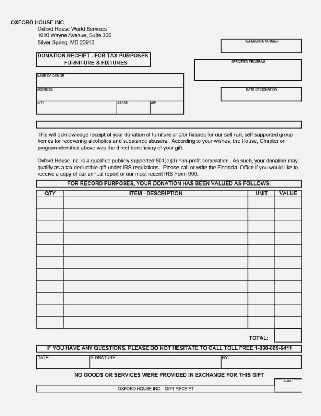textbox: (60, 195, 251, 212), (62, 205, 253, 222), (60, 218, 251, 235), (60, 230, 251, 247), (60, 242, 251, 259), (60, 254, 251, 271), (60, 266, 251, 283), (60, 278, 251, 295), (60, 290, 251, 307), (60, 314, 251, 331), (35, 68, 186, 89), (60, 302, 250, 318), (192, 57, 305, 83), (32, 85, 186, 103), (88, 352, 225, 371), (219, 352, 304, 371), (218, 37, 306, 55), (34, 99, 118, 117), (220, 85, 304, 102), (35, 353, 92, 371), (114, 97, 153, 117), (148, 97, 186, 117), (245, 313, 278, 331), (272, 217, 305, 235), (272, 301, 305, 319), (246, 194, 278, 212), (246, 206, 278, 224), (246, 218, 278, 236), (246, 229, 278, 247), (246, 278, 278, 296), (246, 289, 278, 307), (272, 194, 304, 212), (272, 241, 304, 259), (272, 253, 304, 271), (273, 289, 305, 307), (246, 266, 279, 283), (272, 266, 305, 283), (271, 314, 304, 331), (273, 326, 304, 344), (246, 242, 278, 259), (246, 254, 278, 271), (246, 302, 278, 319), (272, 206, 304, 223), (272, 230, 304, 247), (272, 278, 304, 295), (33, 195, 65, 211), (34, 219, 66, 235), (34, 230, 66, 246), (34, 254, 66, 270), (34, 266, 66, 282), (34, 278, 66, 294), (34, 290, 66, 306), (34, 302, 66, 318), (34, 314, 66, 330), (274, 376, 302, 394), (34, 207, 66, 222), (33, 243, 65, 258)
